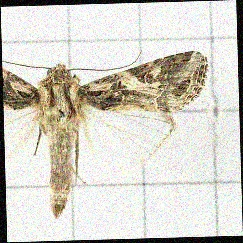Spodoptera litura: (4, 50, 211, 218)
